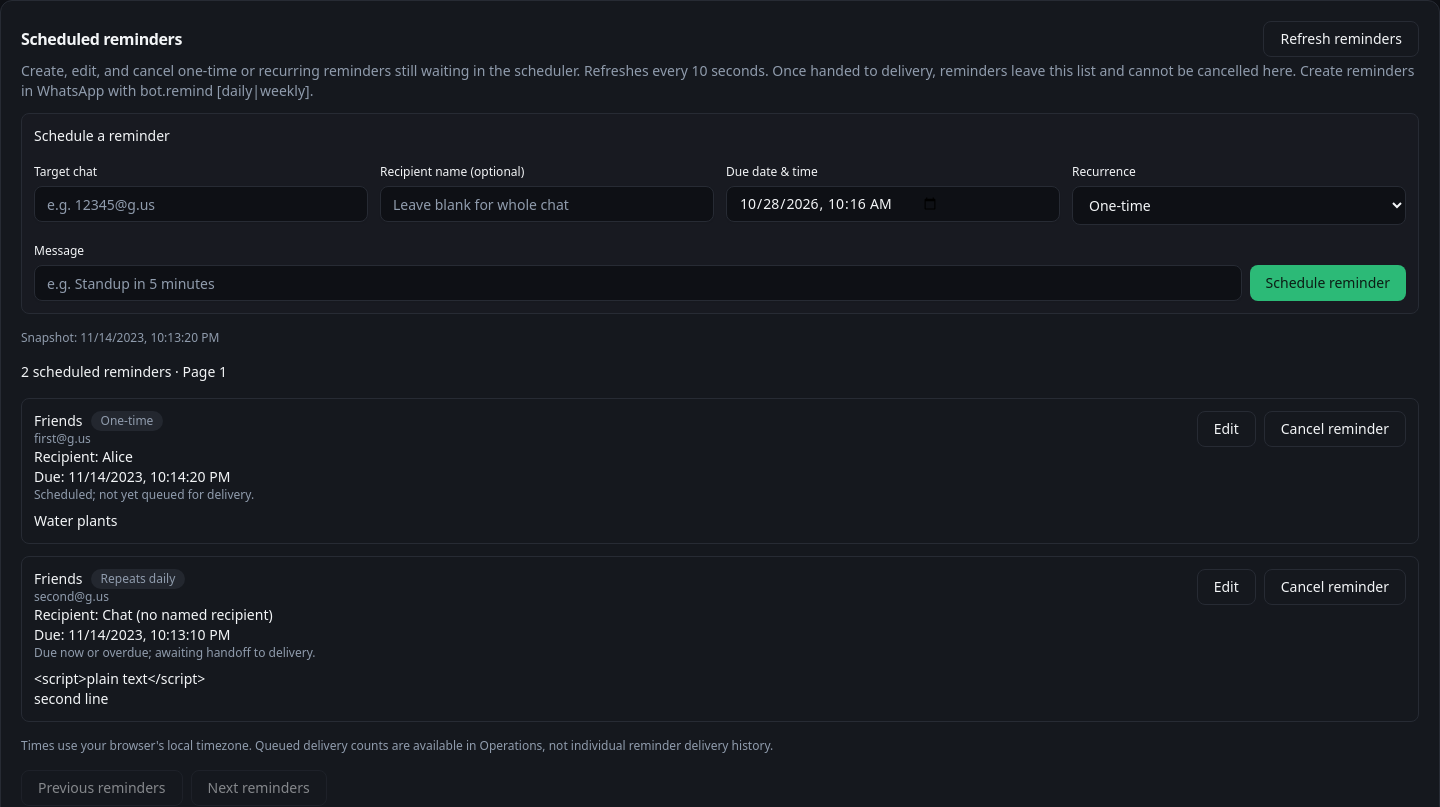
scheduled reminders › keeps the reminder and an explicit error if cancellation fails
The image size is (1440, 807).
Expected: the text "Water plants" is shown, [34,511,118,530]
Click the button "Cancel reminder" in the row of "first@g.us". click: (1335, 429)
box: [1264,411,1406,447]
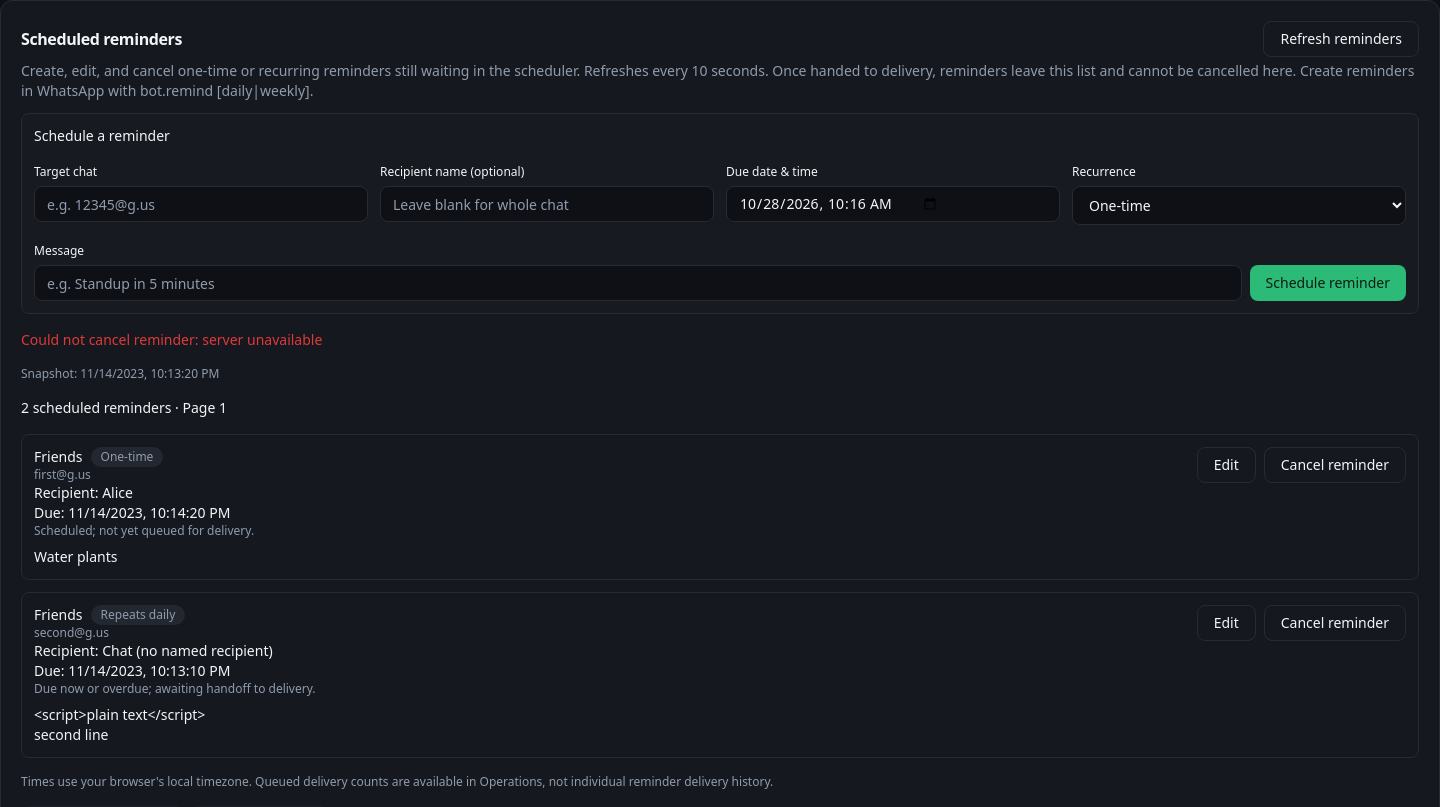
Expected: the text "Water plants" is shown, [34,547,118,566]
Expected: the message shows "server unavailable", [202,330,322,349]
